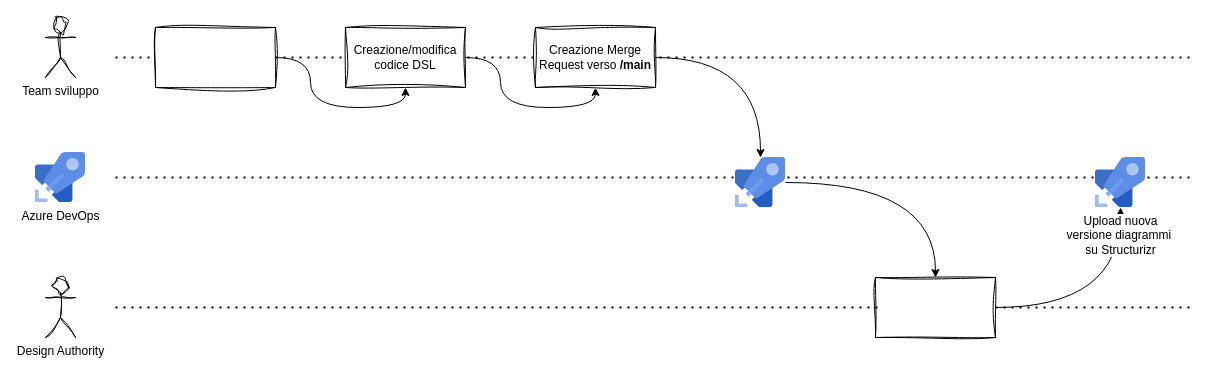
The diagram is 1215 pixels wide and 376 high, and some of its shapes have lost their labels. The shapes that lost their labels are listed below. From the top down, each one's centre as x and y in pixels, then its label:
At [215,57]: "Creazione nuovo branch del repository architettura".
At [760,182]: "Esecuzione script automatici di controllo adesione linee guida".
At [935,307]: "Revisione e approvazione Merge Request".
